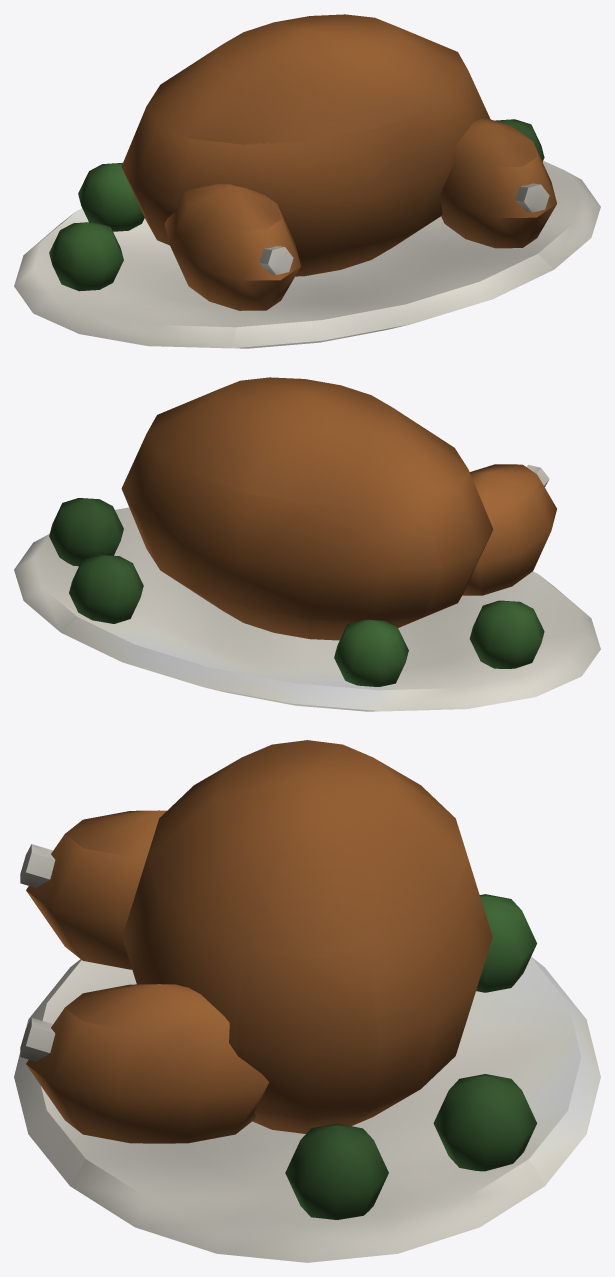
The model's file is Furn_Meal_Feast.fbx.
The picture shows the model from 3 angles, top to bottom: view 1: azimuth 30°, elevation 25°; view 2: azimuth 150°, elevation 25°; view 3: azimuth 270°, elevation 25°; orthographic projection. The views are drawn at different scales.
Visible parts, largest first — view 1: Furn_Meal_Feast; view 2: Furn_Meal_Feast; view 3: Furn_Meal_Feast.
Boxes of the visible parts, bbox=[...] form: Furn_Meal_Feast: bbox=[14, 14, 600, 348]; Furn_Meal_Feast: bbox=[14, 377, 600, 711]; Furn_Meal_Feast: bbox=[14, 740, 600, 1262].
Bounding box in the file's own units: 0.6 × 0.25 × 0.4.
Materials: 3 (3 with a texture image).
